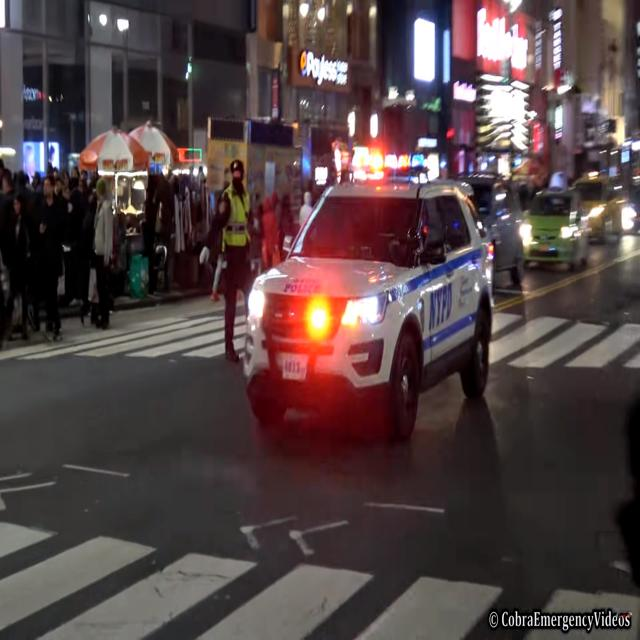emergency-vehicles: (216, 153, 514, 449)
